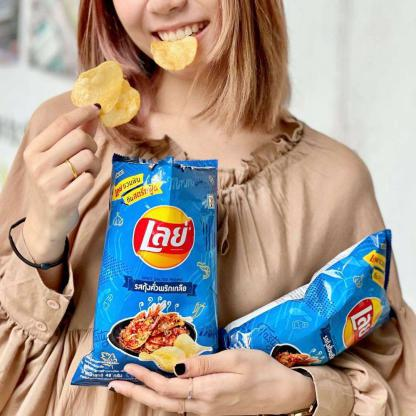potatochip: (70, 155, 224, 387), (219, 229, 395, 380)
